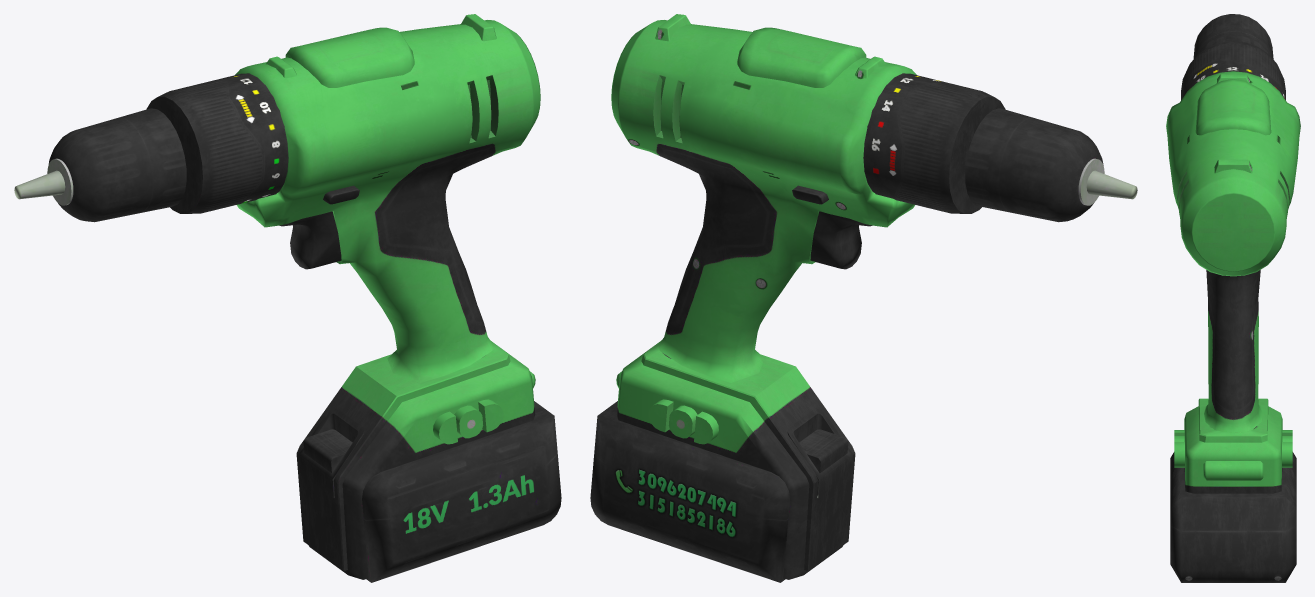
The model's file is drill.glb.
The picture shows the model from 3 angles, left to right: view 1: azimuth 30°, elevation 25°; view 2: azimuth 150°, elevation 25°; view 3: azimuth 270°, elevation 25°; orthographic projection. The views are drawn at different scales.
Parts seen in each view (by area): view 1: polySurface1; view 2: polySurface1; view 3: polySurface1.
Part boxes in pixels (x1,y1,x2,y2): polySurface1: (14, 14, 561, 582); polySurface1: (590, 14, 1137, 582); polySurface1: (1166, 14, 1300, 582).
Bounding box in the file's own units: 16.9 × 16.33 × 4.63.
Materials: 1 (1 with a texture image).
